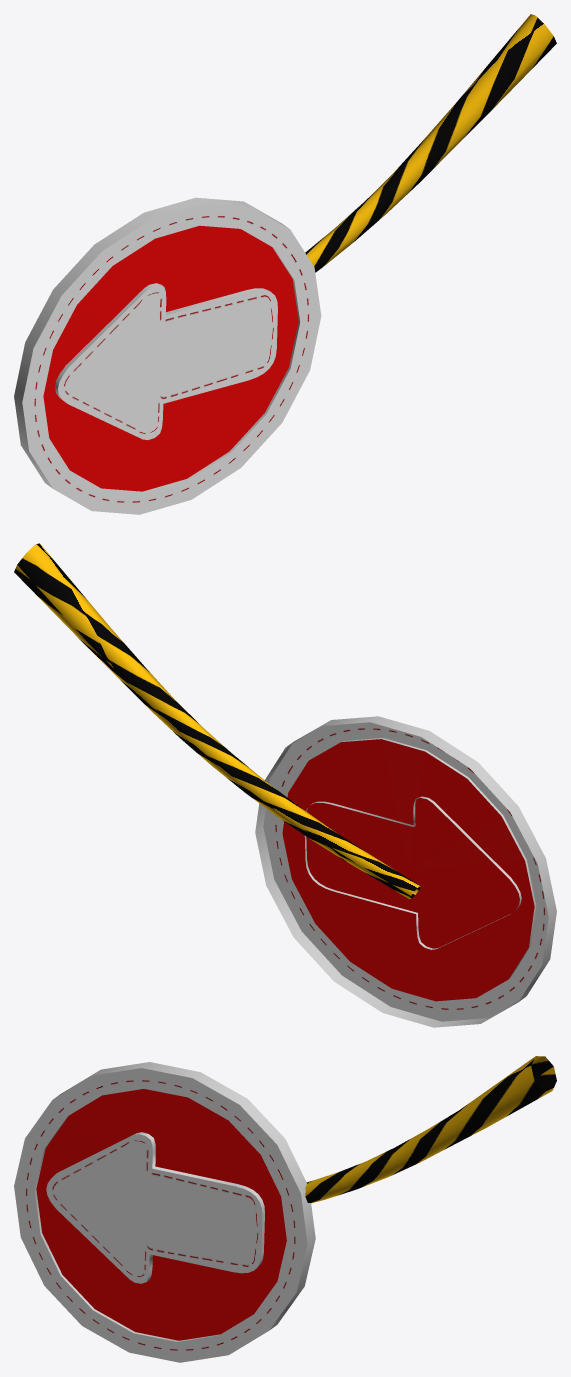
Rendered from SignalIcon.FBX.
3 renders of one model, top to bottom at view 1: azimuth 30°, elevation 25°; view 2: azimuth 150°, elevation 25°; view 3: azimuth 330°, elevation 25°, orthographic.
Parts seen in each view (by area): view 1: Signalicon; view 2: Signalicon; view 3: Signalicon.
Part boxes in pixels (x1=…): Signalicon: x1=14, y1=14, x2=556, y2=514; Signalicon: x1=14, y1=543, x2=556, y2=1027; Signalicon: x1=14, y1=1056, x2=556, y2=1362.
Bounding box in the file's own units: 0.6836 × 0.4773 × 0.0449.
